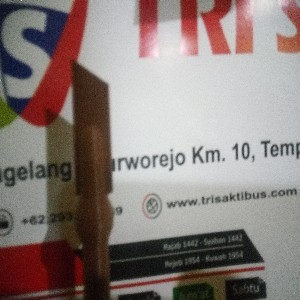cutter: (69, 59, 114, 300)
